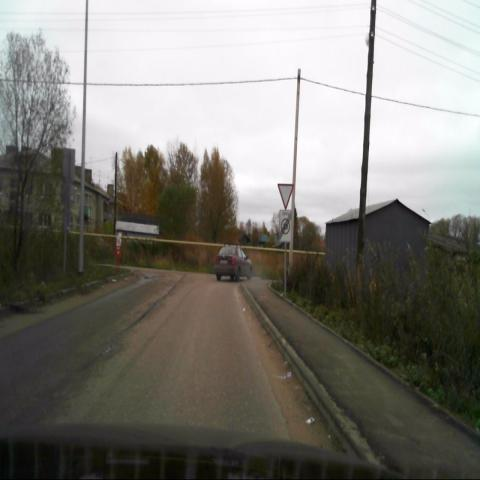2_4: (276, 182, 294, 210)
